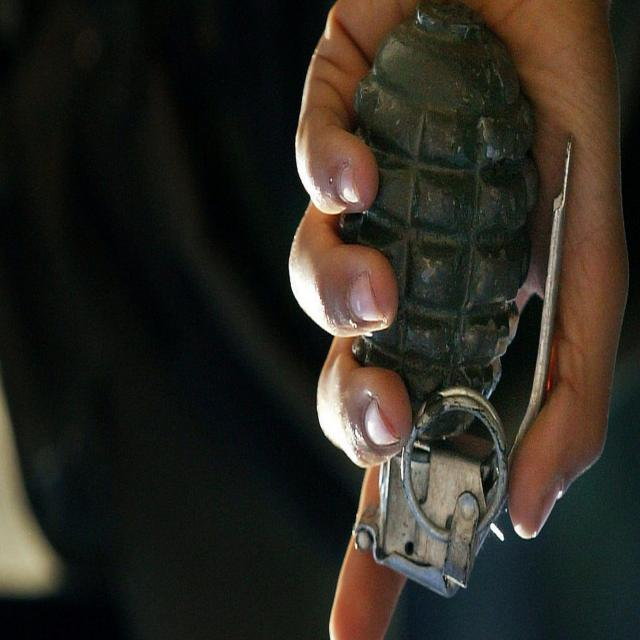grenade: (337, 6, 574, 598)
